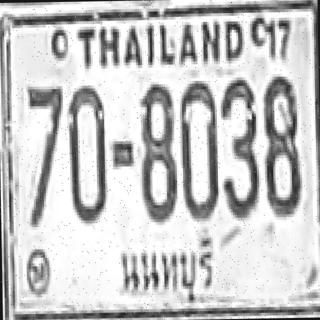N00: (67, 84, 107, 222), (179, 79, 218, 220)
N03: (219, 77, 258, 218)
N07: (25, 84, 65, 222), (26, 84, 64, 203), (26, 84, 64, 178)
N08: (261, 74, 300, 214), (138, 81, 175, 219)
P37: (113, 232, 222, 306)
